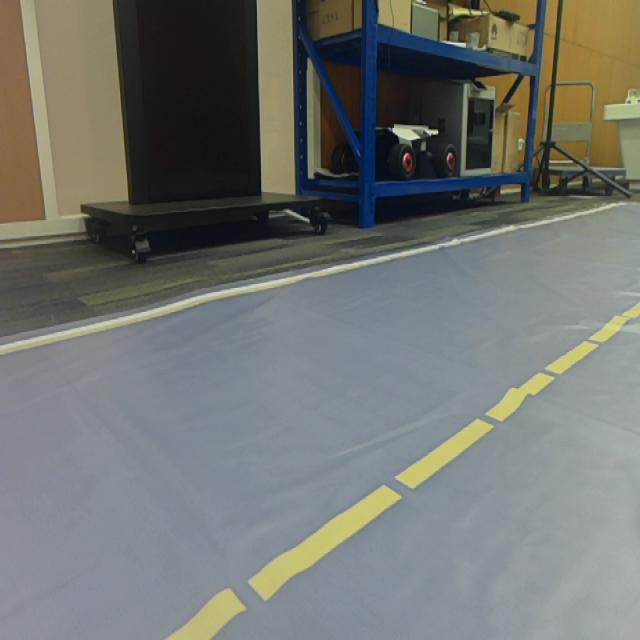left_lane: (163, 301, 640, 639)
